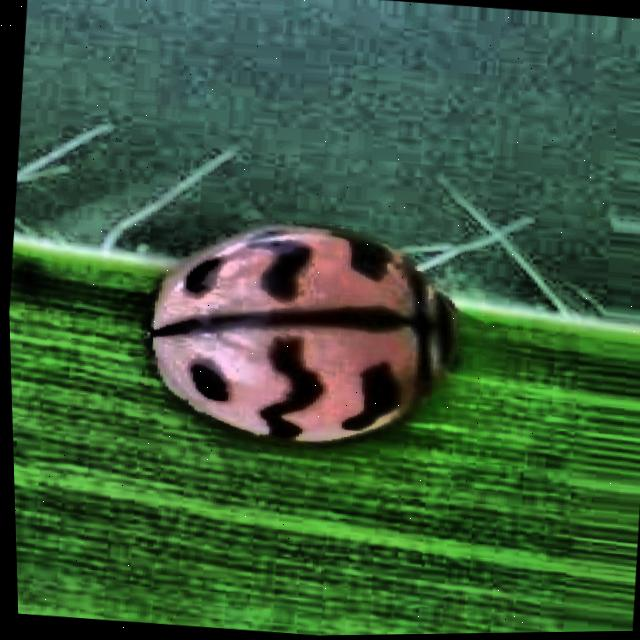Asian-Lady-beetle: (99, 176, 587, 523)
